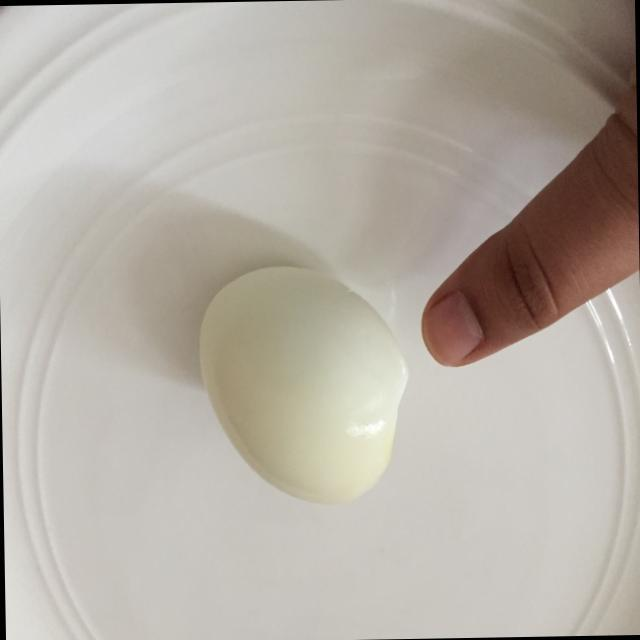Egg: (190, 255, 412, 514)
Finger: (410, 206, 573, 376)
